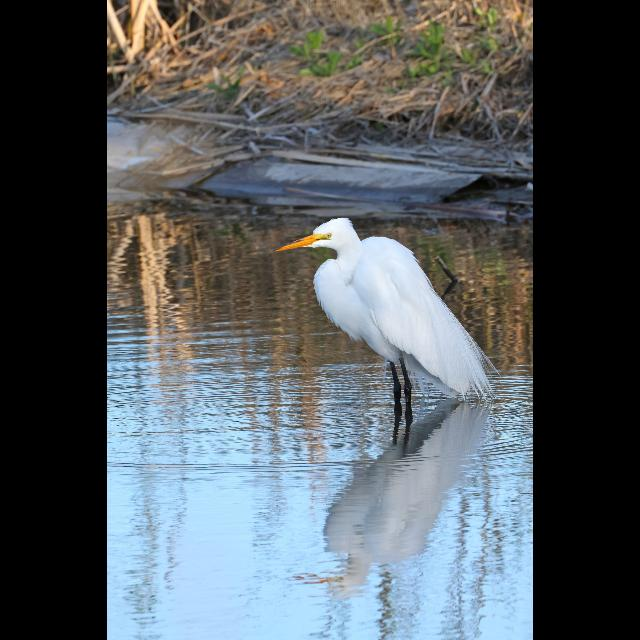egret: (264, 205, 510, 443)
